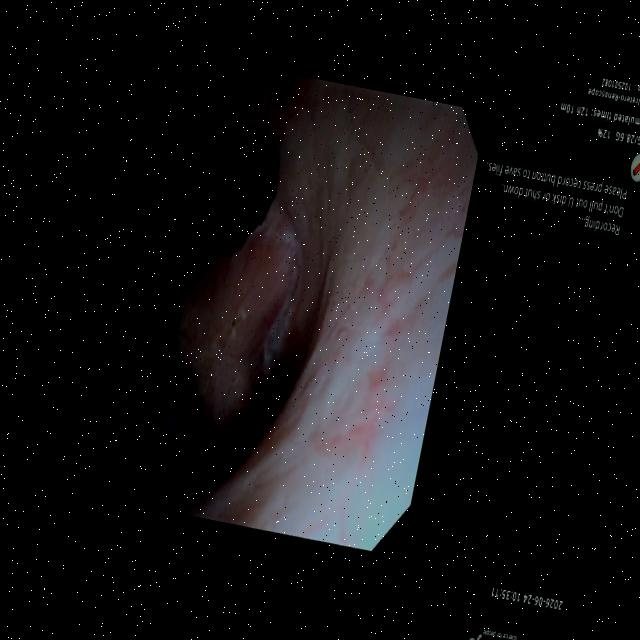stone-new: (210, 139, 279, 255)
